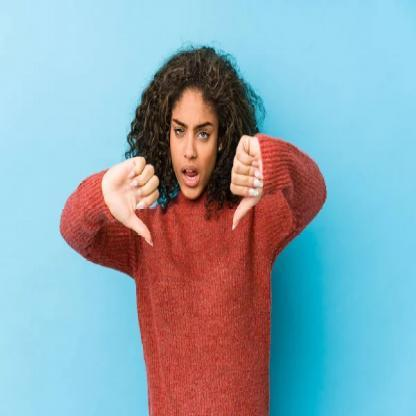thumb_down: (100, 154, 162, 248), (228, 131, 267, 230)
